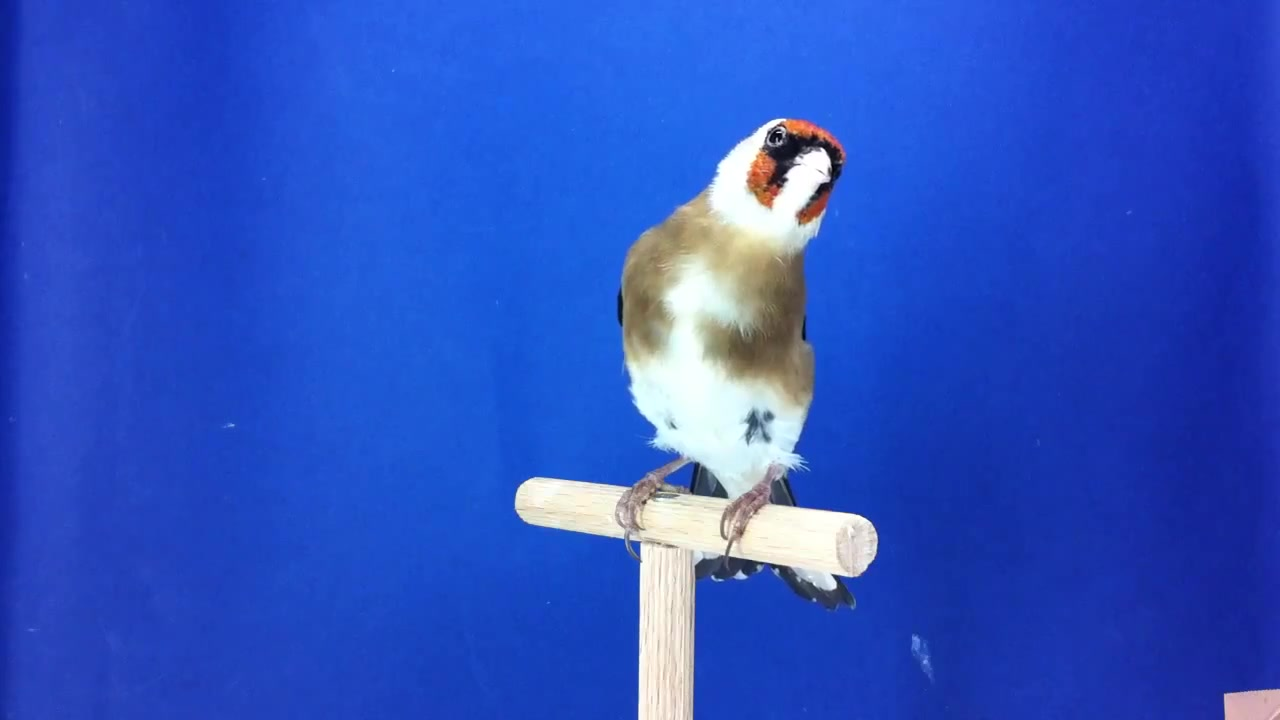bird: (617, 117, 860, 615)
